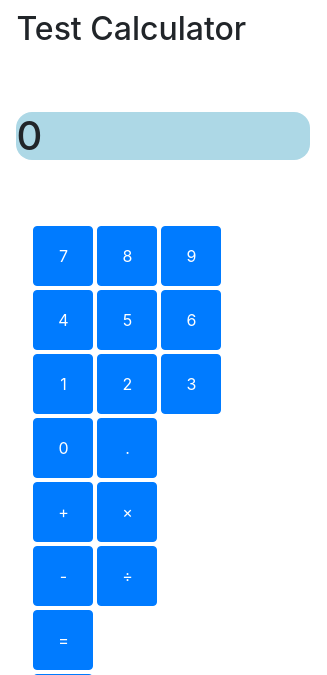
Scenario: Basic Button presses › pressing 9 displays nine
Click the button "9" at (191, 256), box [161, 226, 221, 286]
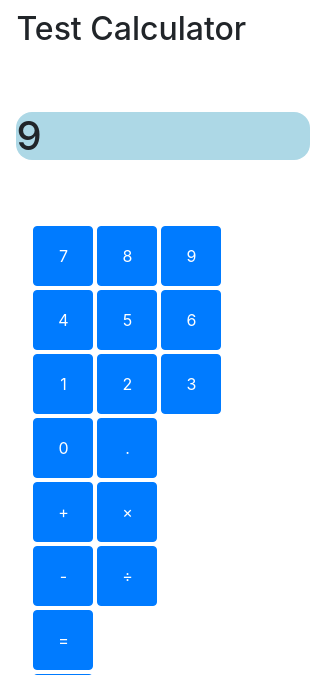
Check: the heading with test id "display" reads "9", box [16, 111, 42, 160]
